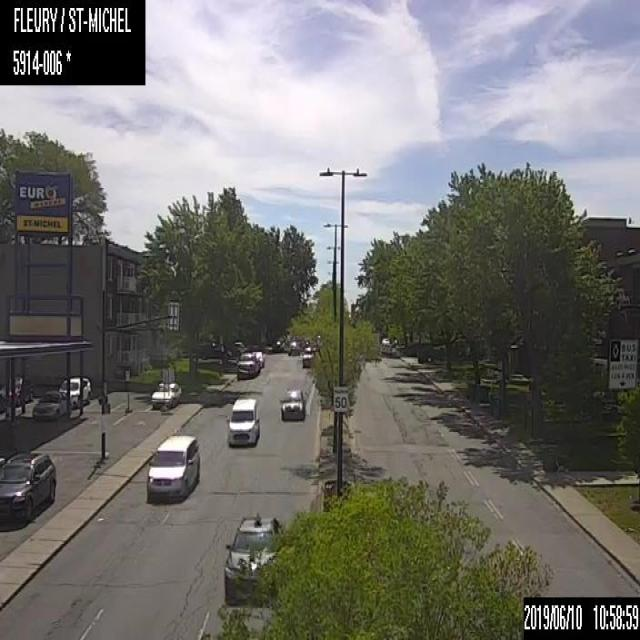vehicle: (224, 511, 278, 606), (0, 446, 57, 532), (145, 432, 200, 501), (226, 396, 260, 445), (56, 372, 92, 408), (30, 390, 67, 422), (0, 373, 31, 407), (149, 380, 182, 411), (279, 383, 306, 420), (194, 341, 231, 359), (234, 351, 256, 380), (298, 345, 314, 371), (379, 337, 393, 356)
